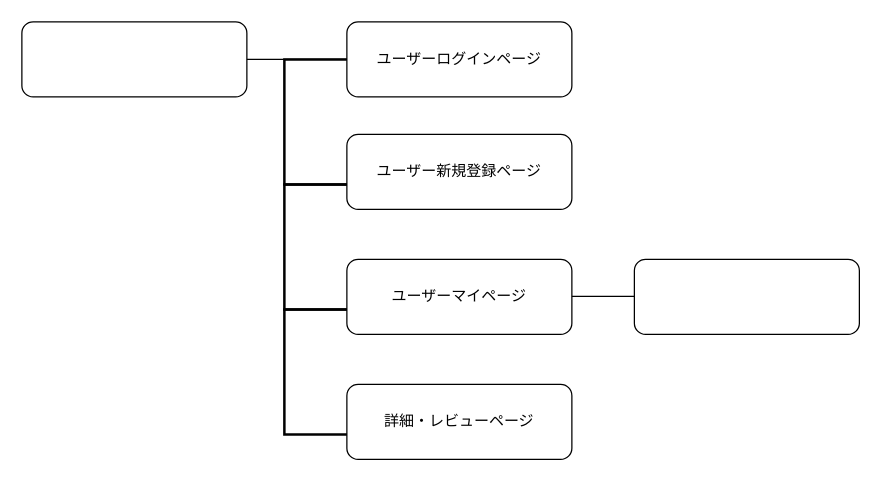
The diagram is 881 pixels wide and 481 high, and some of its shapes have lost their labels. The shapes that lost their labels are listed below. From the top down, each one's centre as x and y in pixels, then its label:
At point 134,59: "トップページ （柑橘類の一覧ページ）".
At point 746,296: "お気に入りリスト".
